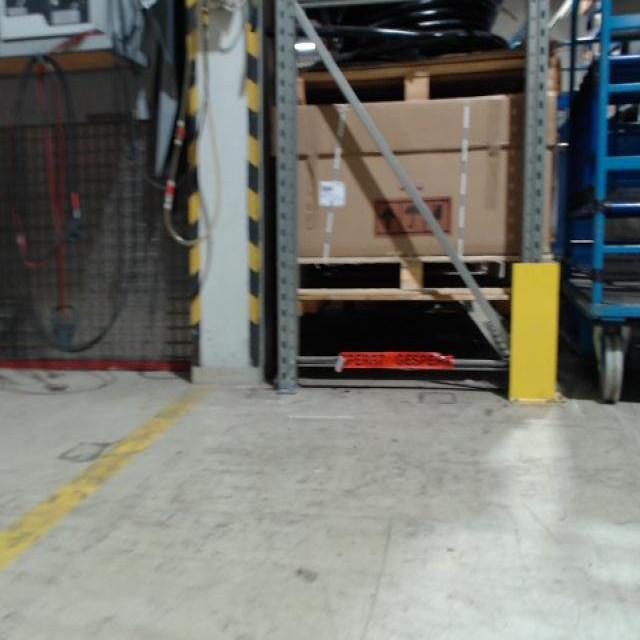pallet: (293, 51, 562, 109), (295, 254, 517, 301)
